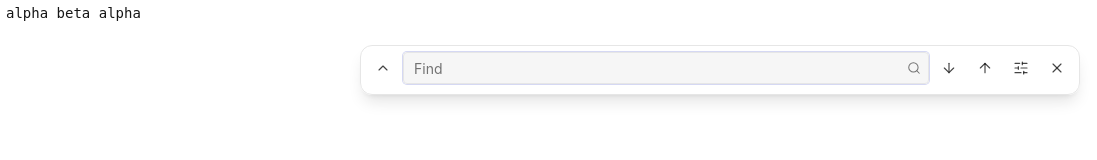
Scenario: custom editor search panel › expands replace from the chevron and from openReplacePanel
Click the button named "Open replace options": (383, 68) [367,52,399,84]
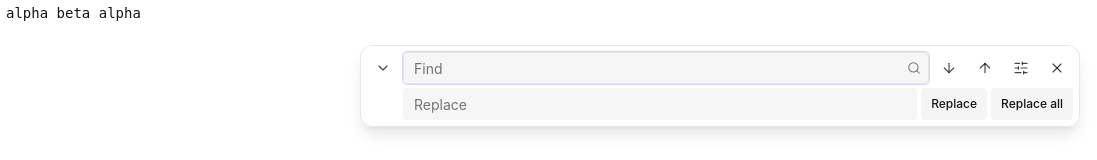
Check: the button named "Close replace options" is expanded, box [367,52,399,84]
Check: the field with test id "note-search-replace" is shown, box [403,88,917,120]
